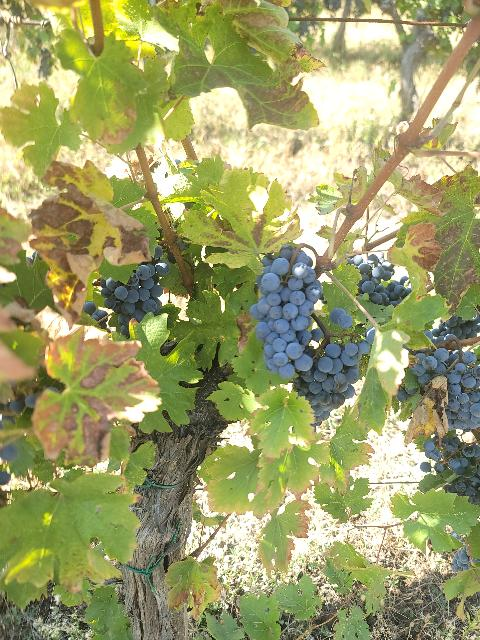grapes: (250, 245, 322, 380), (294, 340, 369, 426), (411, 344, 480, 431)
